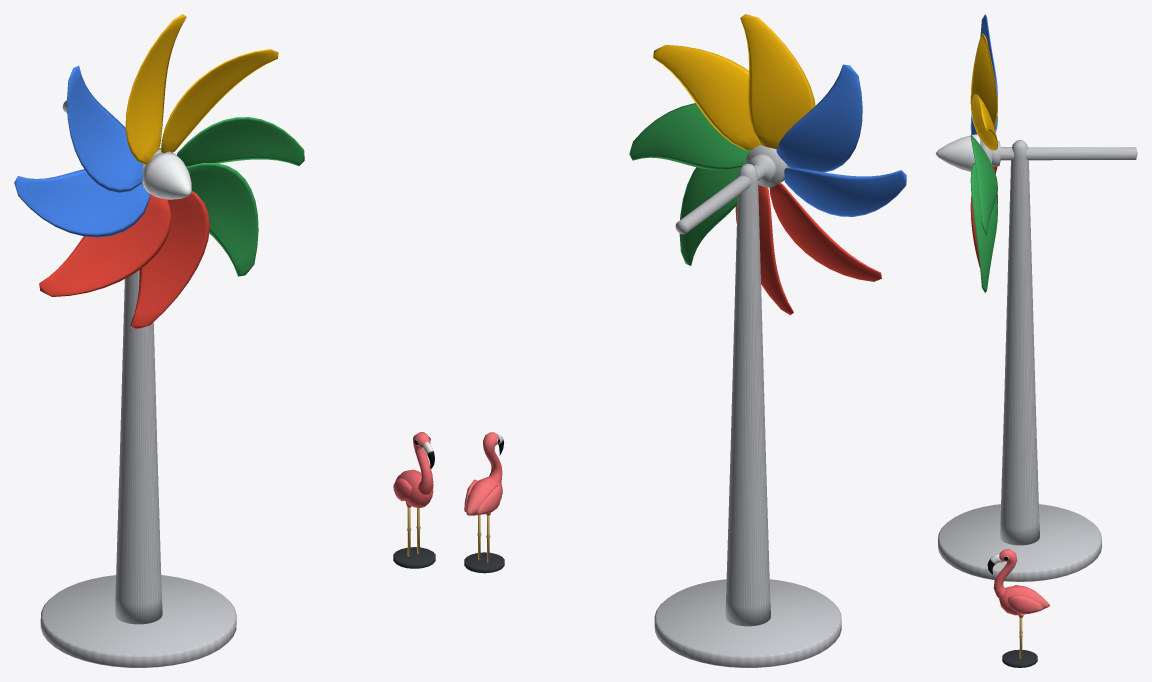
Rendered from campus_collectibles_v2.glb.
The picture shows the model from 3 angles, left to right: view 1: azimuth 30°, elevation 25°; view 2: azimuth 150°, elevation 25°; view 3: azimuth 270°, elevation 25°; orthographic projection. The views are drawn at different scales.
Parts seen in each view (by area): view 1: Pinwheel_Mast_V2, Pinwheel_Blade_Red_V2, Pinwheel_Blade_Blue_V2, Pinwheel_Blade_Green_V2, Pinwheel_Blade_Yellow_V2, Pink_Flamingo_V2, Pinwheel_Hub_Cone_V2; view 2: Pinwheel_Mast_V2, Pinwheel_Blade_Yellow_V2, Pinwheel_Blade_Blue_V2, Pinwheel_Blade_Green_V2, Pinwheel_Blade_Red_V2, Pink_Flamingo_V2, Pinwheel_Hub_Cone_V2; view 3: Pinwheel_Mast_V2, Pinwheel_Blade_Green_V2, Pink_Flamingo_V2, Pinwheel_Blade_Yellow_V2, Pinwheel_Hub_Cone_V2, Pinwheel_Blade_Blue_V2.
Part boxes in pixels (x1,y1,x2,y2): Pinwheel_Mast_V2: (40, 100, 236, 667); Pinwheel_Blade_Red_V2: (39, 191, 209, 329); Pinwheel_Blade_Blue_V2: (14, 65, 150, 237); Pinwheel_Blade_Green_V2: (177, 117, 304, 276); Pinwheel_Blade_Yellow_V2: (125, 14, 278, 164); Pink_Flamingo_V2: (393, 432, 435, 568); Pinwheel_Hub_Cone_V2: (141, 148, 191, 199); Pinwheel_Mast_V2: (654, 154, 841, 667); Pinwheel_Blade_Yellow_V2: (653, 14, 815, 150); Pinwheel_Blade_Blue_V2: (776, 64, 906, 216); Pinwheel_Blade_Green_V2: (629, 103, 751, 265); Pinwheel_Blade_Red_V2: (735, 183, 881, 315); Pink_Flamingo_V2: (464, 432, 504, 573); Pinwheel_Hub_Cone_V2: (745, 144, 790, 187); Pinwheel_Mast_V2: (938, 140, 1137, 581); Pinwheel_Blade_Green_V2: (970, 135, 997, 292); Pink_Flamingo_V2: (987, 549, 1049, 667); Pinwheel_Blade_Yellow_V2: (970, 33, 997, 150); Pinwheel_Hub_Cone_V2: (935, 134, 991, 171); Pinwheel_Blade_Blue_V2: (970, 14, 997, 134).
Size of the model in its own units: 3.11 by 4.21 by 1.48.
2 materials, 2 textured.
